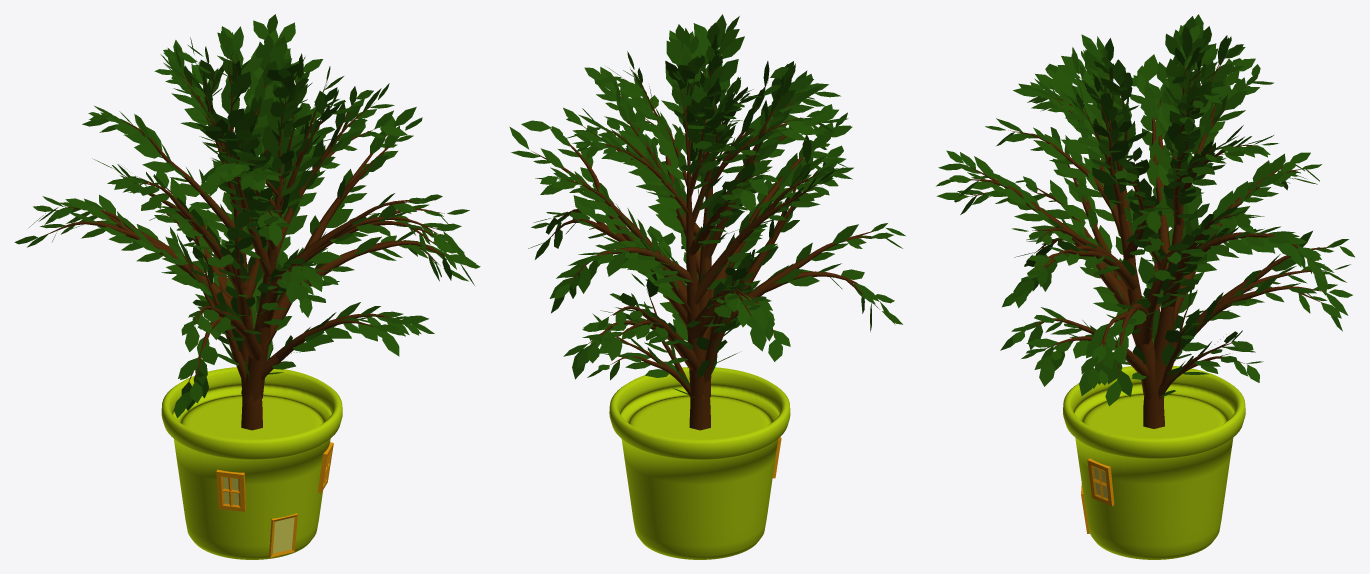
File: Color Casa Lima.fbx
3 views of the same model, side by side, from view 1: azimuth 30°, elevation 25°; view 2: azimuth 150°, elevation 25°; view 3: azimuth 270°, elevation 25° (orthographic).
Parts seen in each view (by area): view 1: leaves.001, Cylinder, tree.003, Cube.002, Cube.001; view 2: leaves.001, Cylinder, tree.003; view 3: leaves.001, Cylinder, tree.003, Cube.002.
Boxes of the visible parts, box(x1,y1,x2,y2) form: leaves.001: box(14, 14, 480, 418); Cylinder: box(161, 367, 342, 559); tree.003: box(41, 47, 445, 430); Cube.002: box(216, 442, 333, 511); Cube.001: box(269, 513, 297, 557); leaves.001: box(509, 14, 905, 395); Cylinder: box(609, 367, 790, 559); tree.003: box(532, 46, 879, 430); leaves.001: box(936, 14, 1354, 406); Cylinder: box(1063, 365, 1245, 559); tree.003: box(967, 55, 1332, 428); Cube.002: box(1087, 458, 1114, 506).
Bounding box in the file's own units: 511 × 680 × 516.
